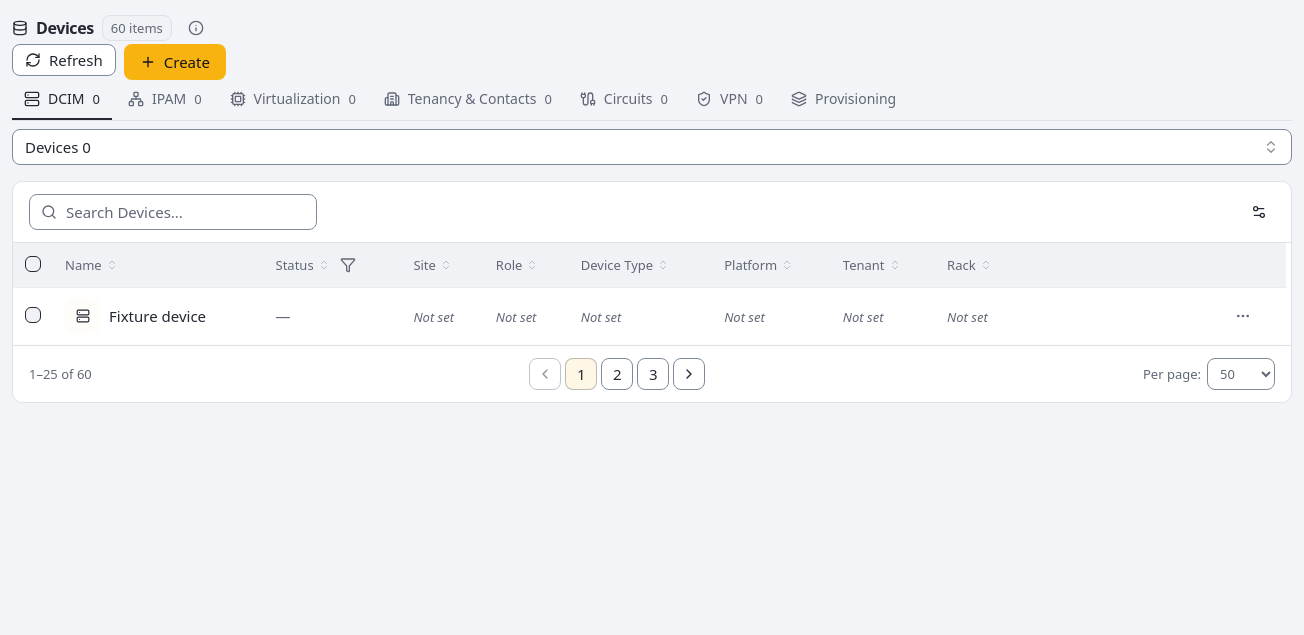
Test: InventoryResources list › PWA-116 target repair resets a nonzero page but retains sort, size and columns
Expected: the text "Fixture device" is shown, 109,305 -> 206,327
Click the button "Name". click: [91, 265]
box: 65,255 -> 118,275
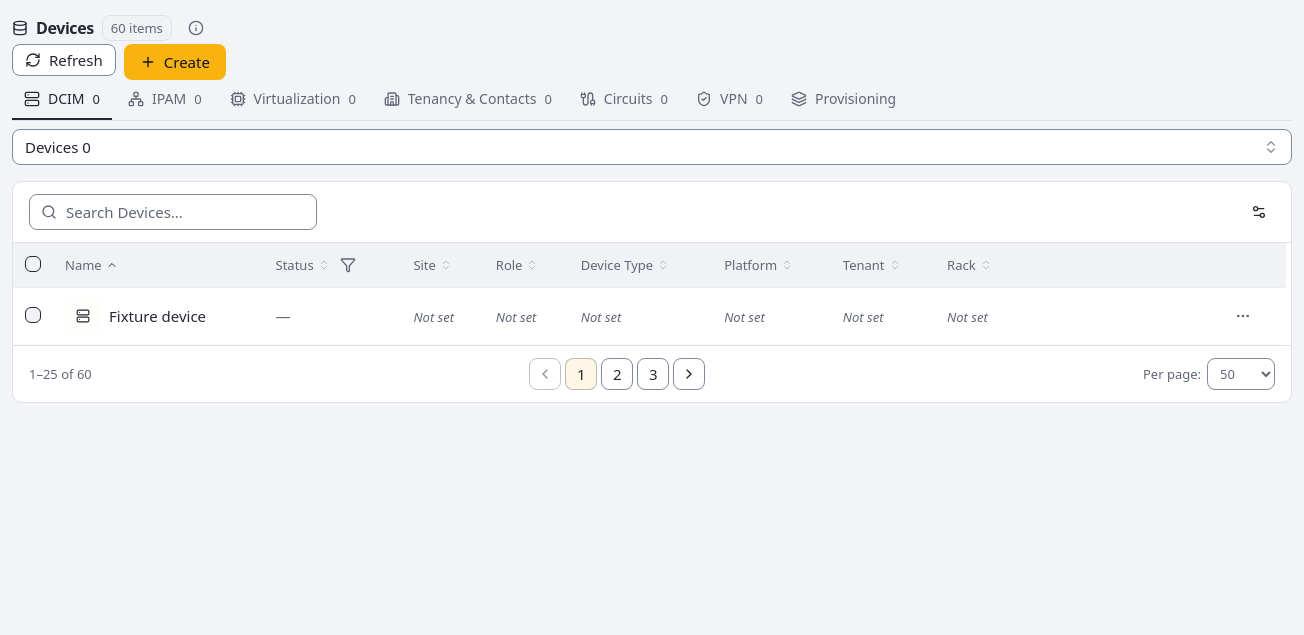
Type "no-match" into the field with placeholder "Search Devices...". click: [173, 212]
box: 29,194 -> 317,230
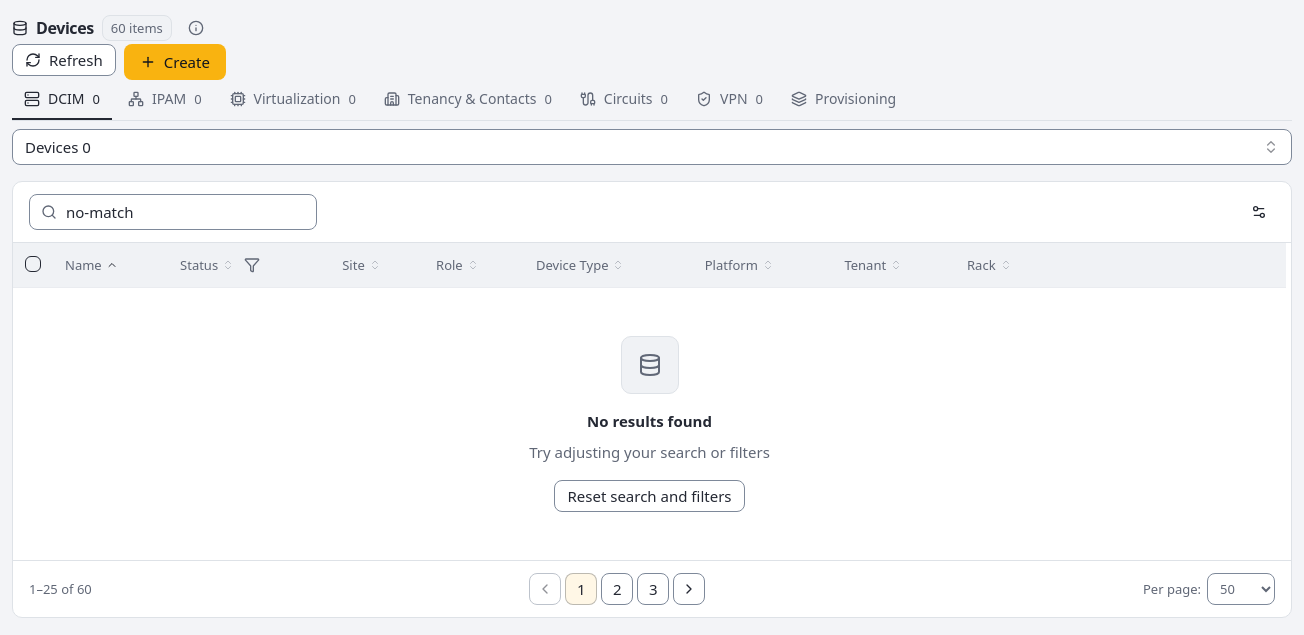
Now the button "Reset search and filters" is shown, box 554,480 -> 744,512
Click the button named "Next page". click: [689, 589]
box: 673,573 -> 705,605
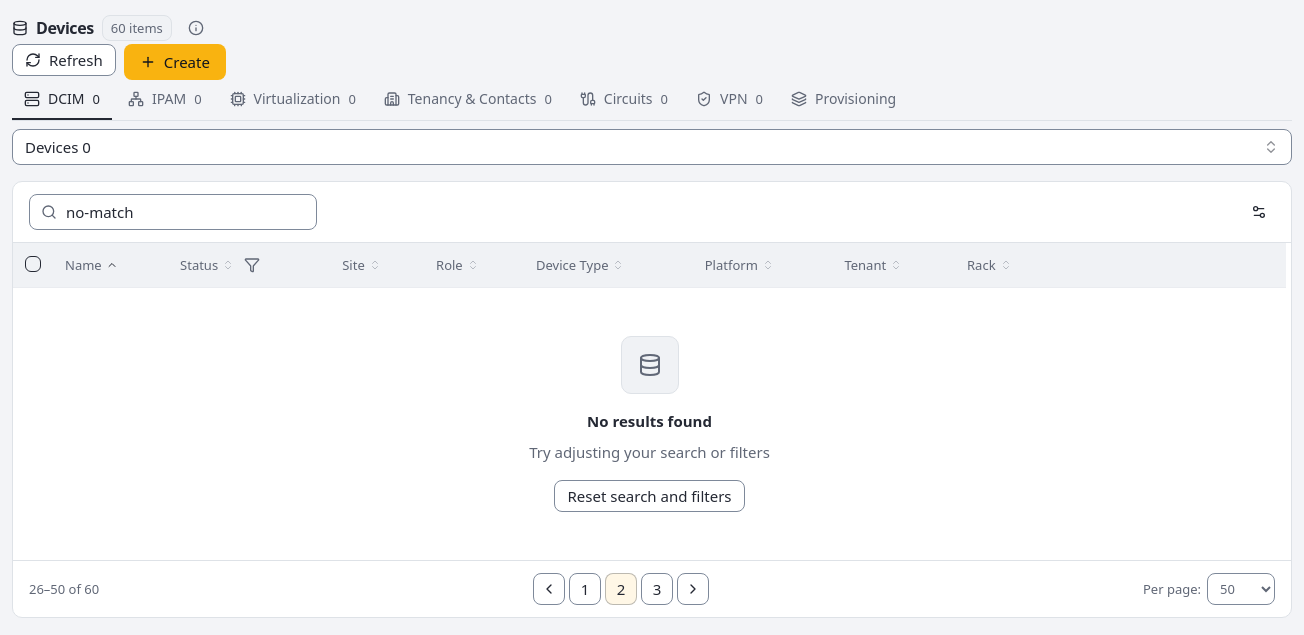
Click the button "Reset search and filters". click: [650, 496]
box: 554,480 -> 744,512
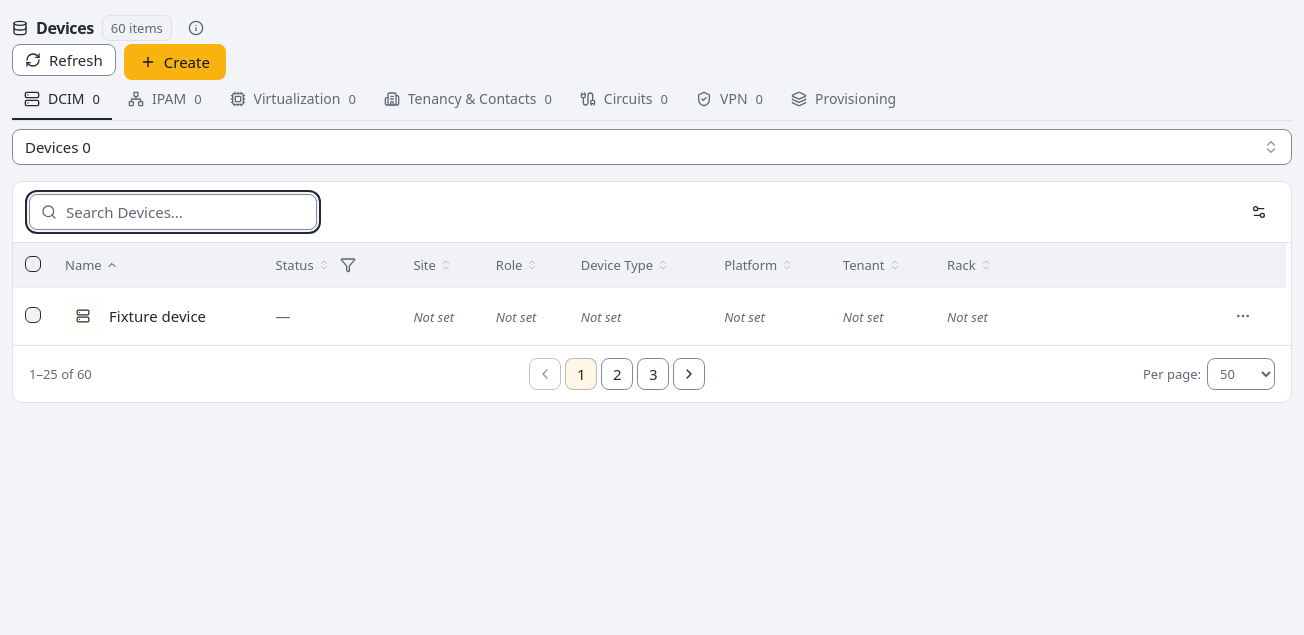
Now the text "Fixture device" is shown, box 109,305 -> 206,327
